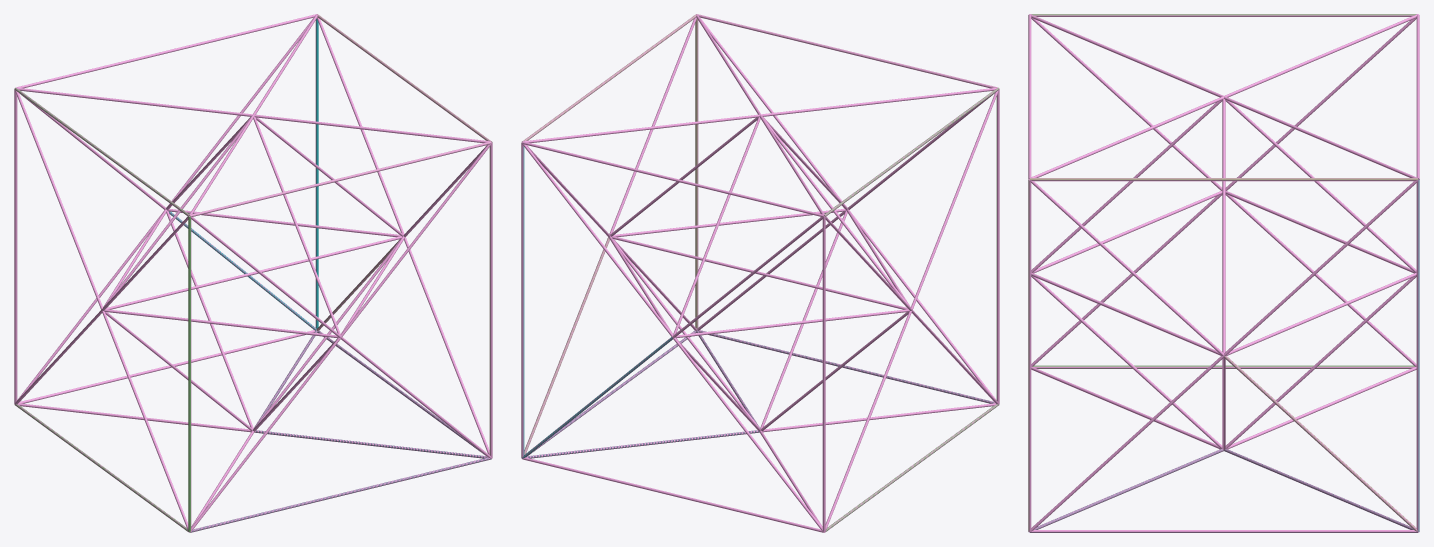
3 renders of one model, left to right at view 1: azimuth 30°, elevation 25°; view 2: azimuth 150°, elevation 25°; view 3: azimuth 270°, elevation 25°, orthographic. The views are drawn at different scales.
Parts seen in each view (by area): view 1: =>[0:1:1:47], =>[0:1:1:62], =>[0:1:1:58], =>[0:1:1:216], =>[0:1:1:168], =>[0:1:1:180], =>[0:1:1:70], =>[0:1:1:37], =>[0:1:1:77], =>[0:1:1:3], =>[0:1:1:13], =>[0:1:1:153] (+41 smaller); view 2: =>[0:1:1:47], =>[0:1:1:62], =>[0:1:1:58], =>[0:1:1:94], =>[0:1:1:77], =>[0:1:1:38], =>[0:1:1:168], =>[0:1:1:13], =>[0:1:1:3], =>[0:1:1:37], =>[0:1:1:180], =>[0:1:1:192] (+41 smaller); view 3: =>[0:1:1:70], =>[0:1:1:94], =>[0:1:1:189], =>[0:1:1:83], =>[0:1:1:91], =>[0:1:1:53], =>[0:1:1:29], =>[0:1:1:210], =>[0:1:1:4], =>[0:1:1:6], =>[0:1:1:24], =>[0:1:1:81] (+42 smaller).
Part boxes in pixels (x1,y1,x2,y2): =>[0:1:1:47]: (14, 89, 17, 403); =>[0:1:1:62]: (16, 14, 316, 88); =>[0:1:1:58]: (19, 330, 315, 403); =>[0:1:1:216]: (188, 215, 190, 532); =>[0:1:1:168]: (189, 141, 491, 216); =>[0:1:1:180]: (189, 457, 491, 532); =>[0:1:1:70]: (490, 142, 492, 458); =>[0:1:1:37]: (190, 457, 491, 532); =>[0:1:1:77]: (189, 141, 490, 216); =>[0:1:1:3]: (106, 236, 401, 309); =>[0:1:1:13]: (107, 236, 402, 309); =>[0:1:1:153]: (316, 19, 318, 328); =>[0:1:1:47]: (822, 215, 825, 532); =>[0:1:1:62]: (522, 141, 824, 216); =>[0:1:1:58]: (522, 457, 824, 532); =>[0:1:1:94]: (521, 142, 523, 458); =>[0:1:1:77]: (697, 14, 997, 88); =>[0:1:1:38]: (997, 89, 999, 403); =>[0:1:1:168]: (697, 14, 996, 88); =>[0:1:1:13]: (612, 236, 907, 309); =>[0:1:1:3]: (611, 236, 906, 309); =>[0:1:1:37]: (699, 330, 994, 403); =>[0:1:1:180]: (698, 330, 993, 403); =>[0:1:1:192]: (695, 18, 697, 328); =>[0:1:1:70]: (1028, 179, 1031, 531); =>[0:1:1:94]: (1416, 179, 1419, 531); =>[0:1:1:189]: (1030, 178, 1417, 180); =>[0:1:1:83]: (1030, 178, 1417, 181); =>[0:1:1:91]: (1030, 530, 1417, 532); =>[0:1:1:53]: (1030, 14, 1417, 16); =>[0:1:1:29]: (1033, 366, 1414, 368); =>[0:1:1:210]: (1033, 365, 1414, 368); =>[0:1:1:4]: (1222, 99, 1225, 352); =>[0:1:1:6]: (1225, 100, 1416, 272); =>[0:1:1:24]: (1031, 100, 1222, 272); =>[0:1:1:81]: (1224, 179, 1418, 355).
Bounding box in the file's own units: 1.01 × 1.01 × 1.01.
